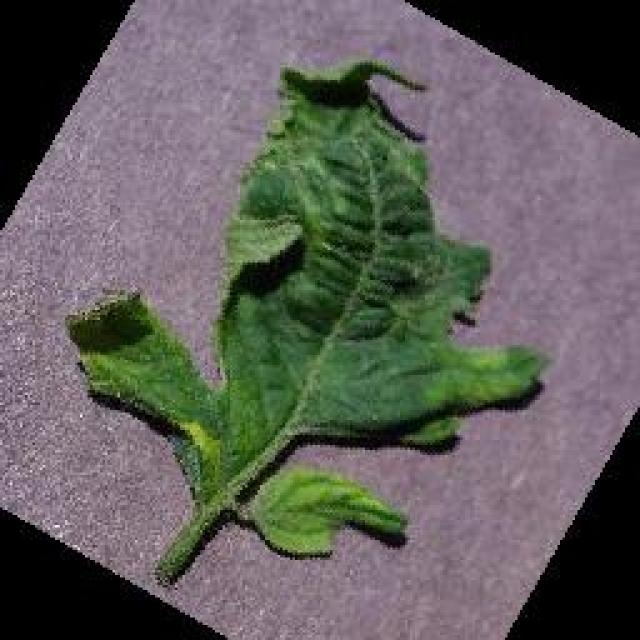Tomato___Tomato_mosaic_virus: (70, 60, 542, 580)
